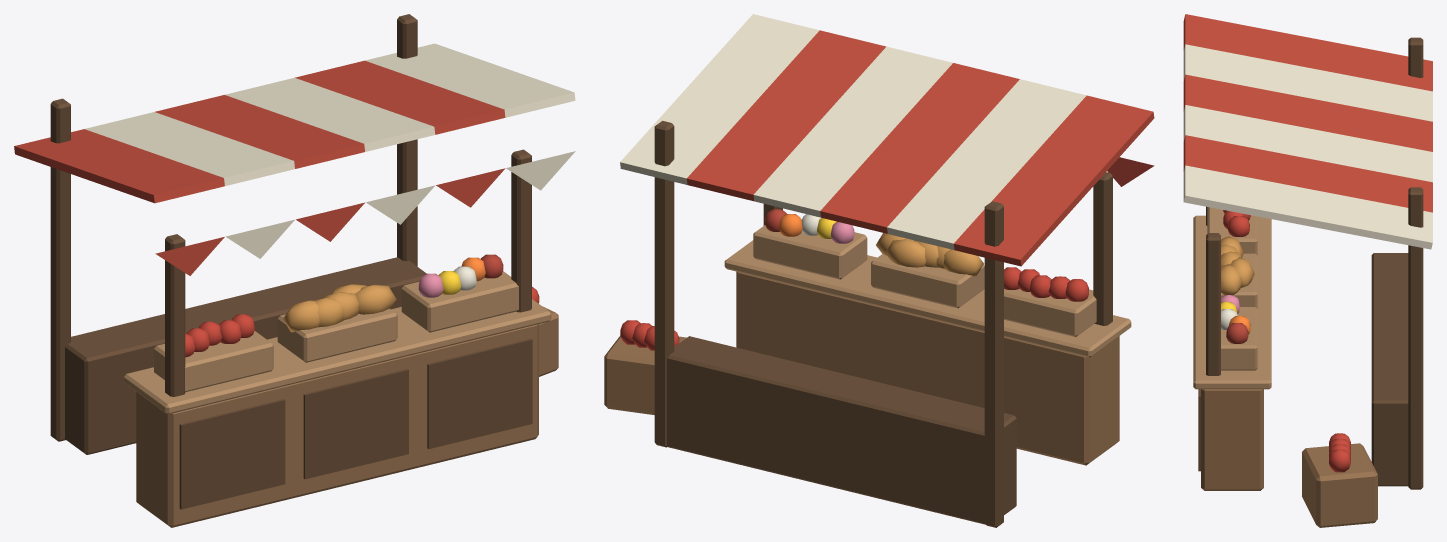
File: plaza_stall.glb
3 views of the same model, side by side, from view 1: azimuth 30°, elevation 25°; view 2: azimuth 150°, elevation 25°; view 3: azimuth 270°, elevation 25° (orthographic). The views are drawn at different scales.
Visible parts, largest first — view 1: LOD0; view 2: LOD0; view 3: LOD0.
Boxes of the visible parts, x1,y1,x2,y2 form: LOD0: (14,14,575,527); LOD0: (604,14,1154,527); LOD0: (1183,14,1432,527).
Size of the model in its own units: 3.89 by 2.69 by 1.97.
Materials: 1 (1 with a texture image).
